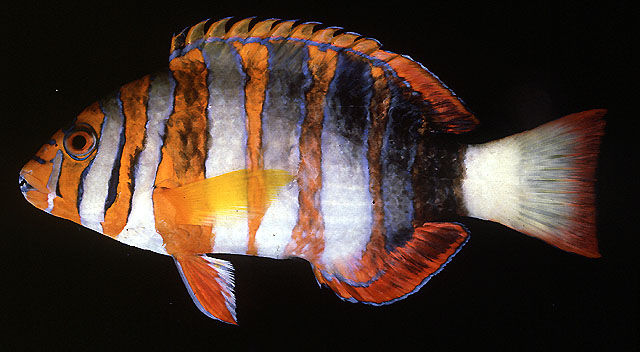fish: (20, 17, 603, 325)
